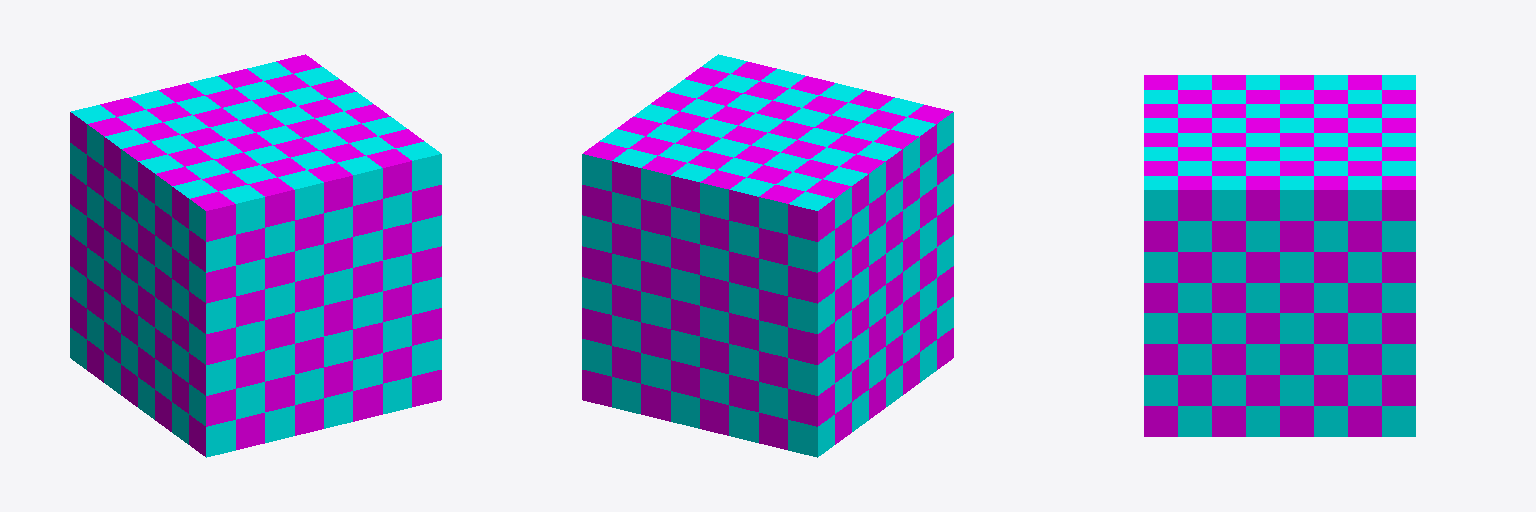
The picture shows the model from 3 angles: view 1: azimuth 30°, elevation 25°; view 2: azimuth 150°, elevation 25°; view 3: azimuth 270°, elevation 25°; orthographic projection.
Parts seen in each view (by area): view 1: Cube; view 2: Cube; view 3: Cube.
Boxes of the visible parts, x1=… form: Cube: x1=70, y1=54, x2=441, y2=457; Cube: x1=582, y1=54, x2=953, y2=457; Cube: x1=1144, y1=75, x2=1415, y2=436.
Bounding box in the file's own units: 1 × 1 × 1.
Materials: 1 (1 with a texture image).